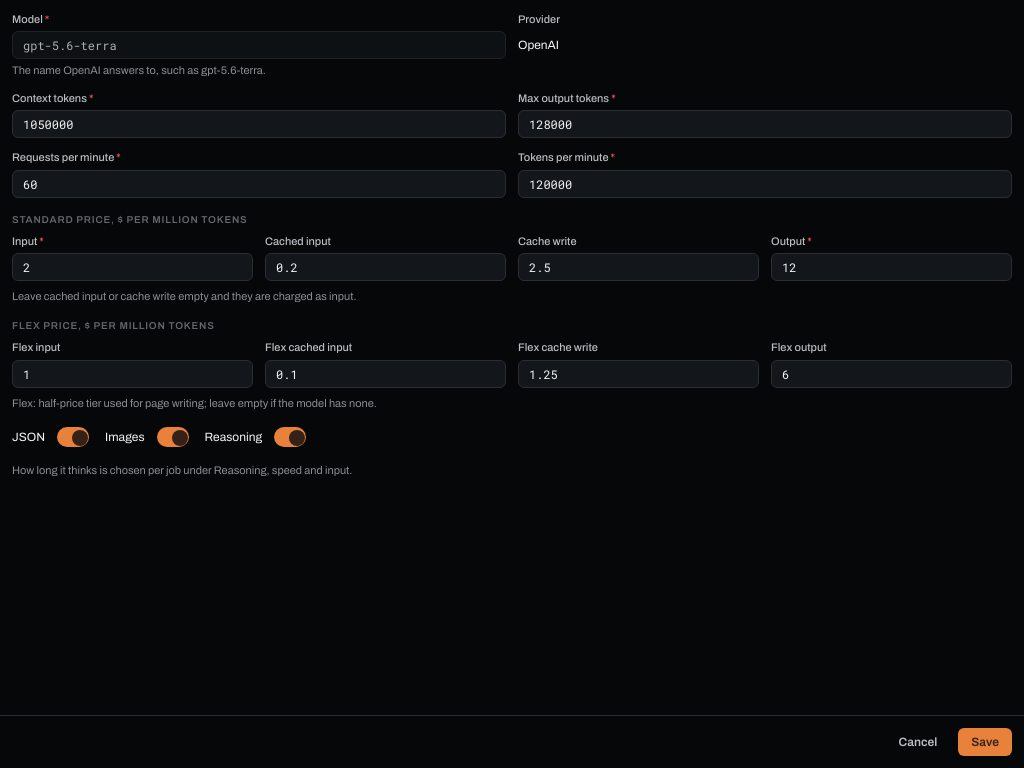
Test: the model form › saves nothing while a required number is missing or a price is not a number
Clear the field labelled "Input*": (132, 267) x1=12 y1=253 x2=253 y2=281
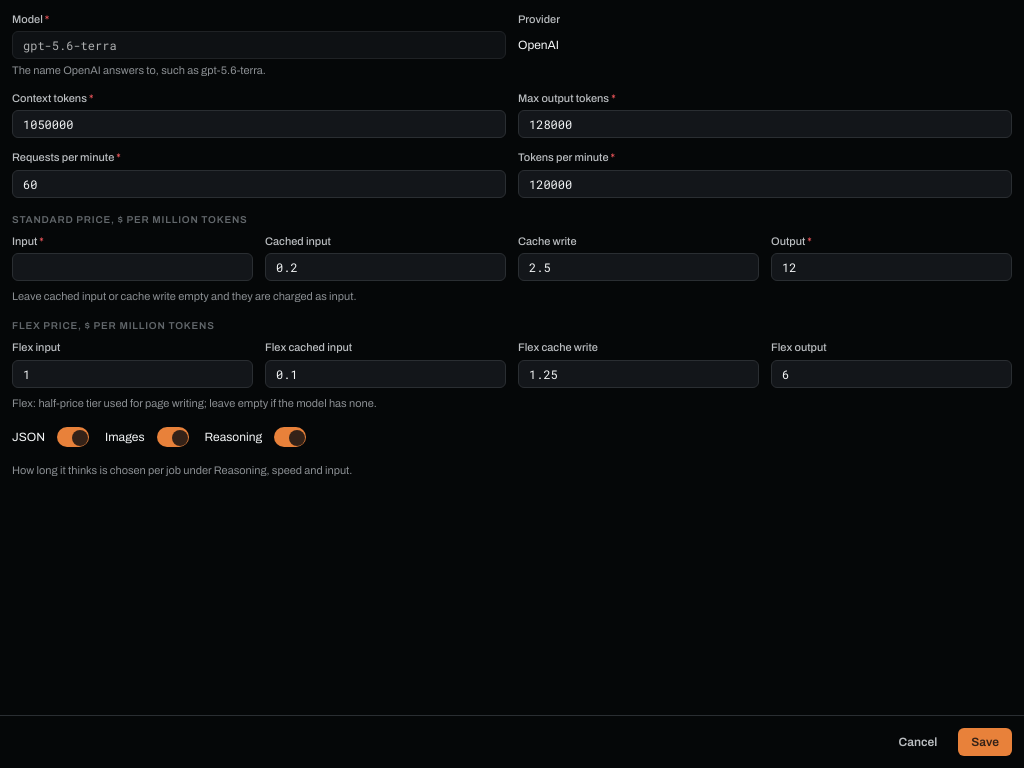
Replace the text in the field labelled "Flex output" with "six": (892, 374) x1=771 y1=360 x2=1012 y2=388
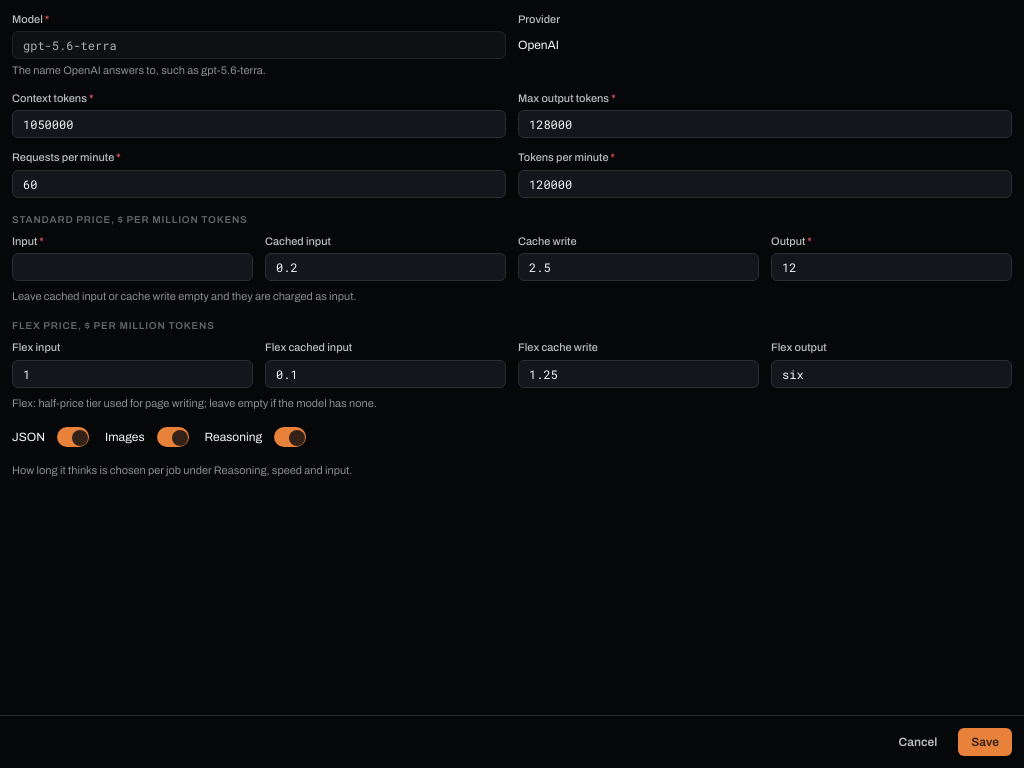
Click the button "Save": (985, 742) x1=958 y1=728 x2=1012 y2=756
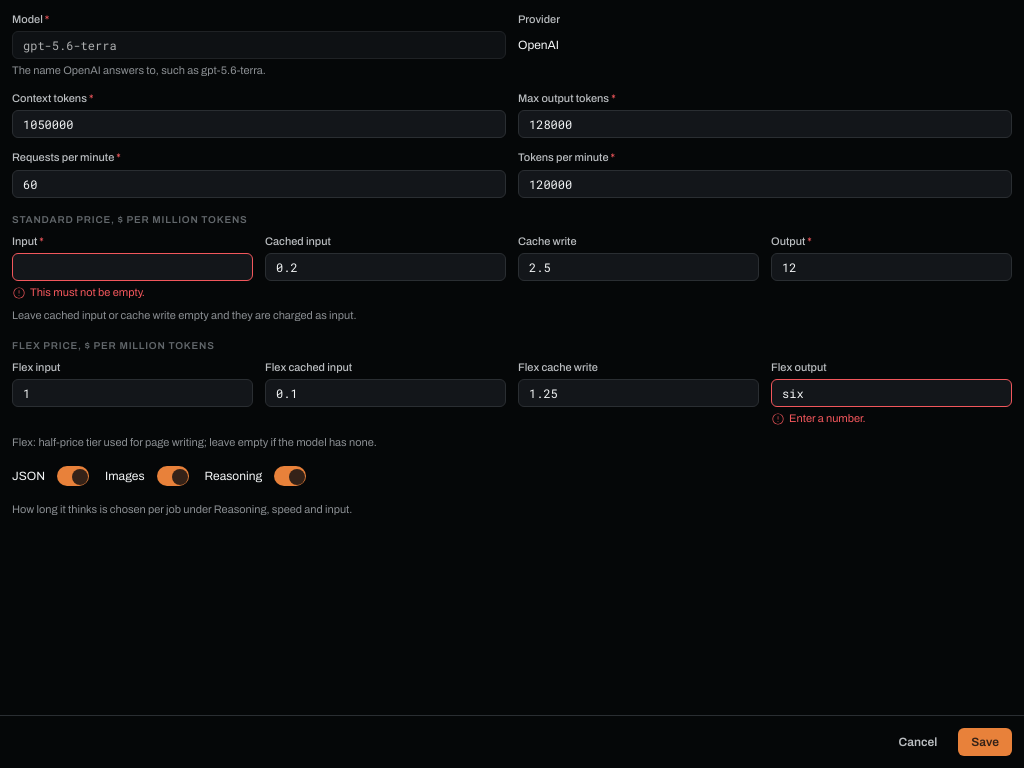
Expected: the text "This must not be empty." is shown, x1=12 y1=286 x2=145 y2=300
Expected: the text "Enter a number." is shown, x1=771 y1=412 x2=866 y2=426
